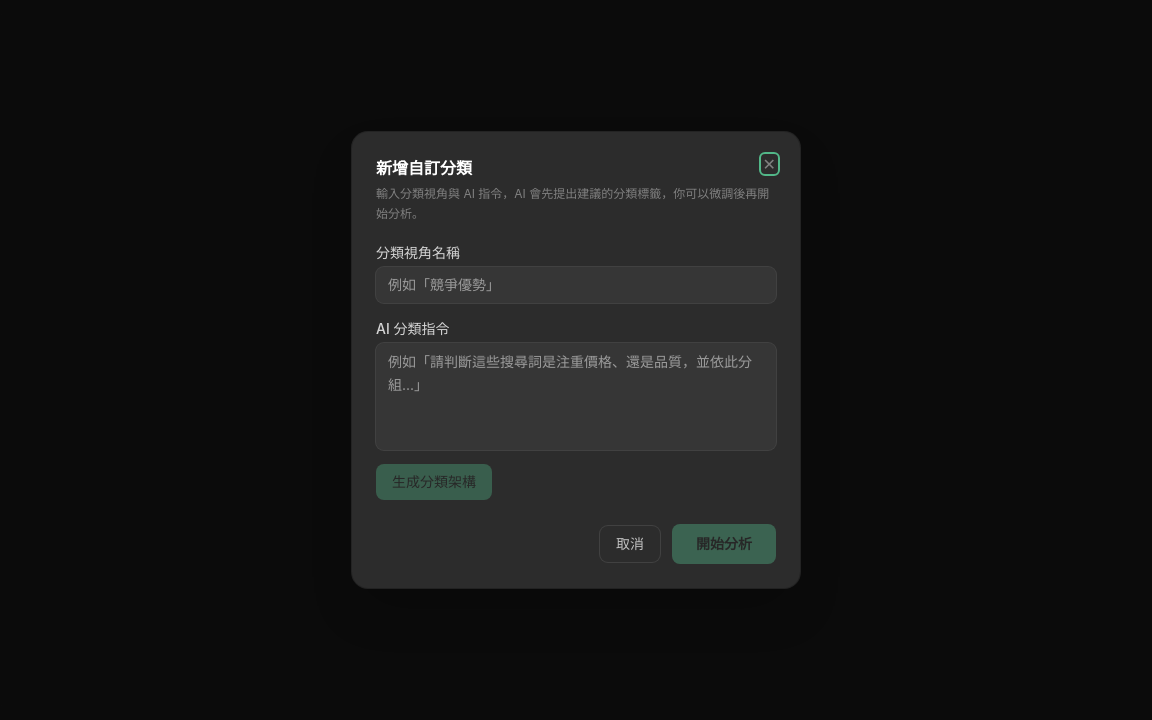
Test: TC-26 · CustomClassifyModal (stage one) › lets the user remove a chip
This screenshot has width=1152, height=720.
In the field labelled "分類視角名稱": (576, 285) [376,267,776,303], type "競爭優勢"
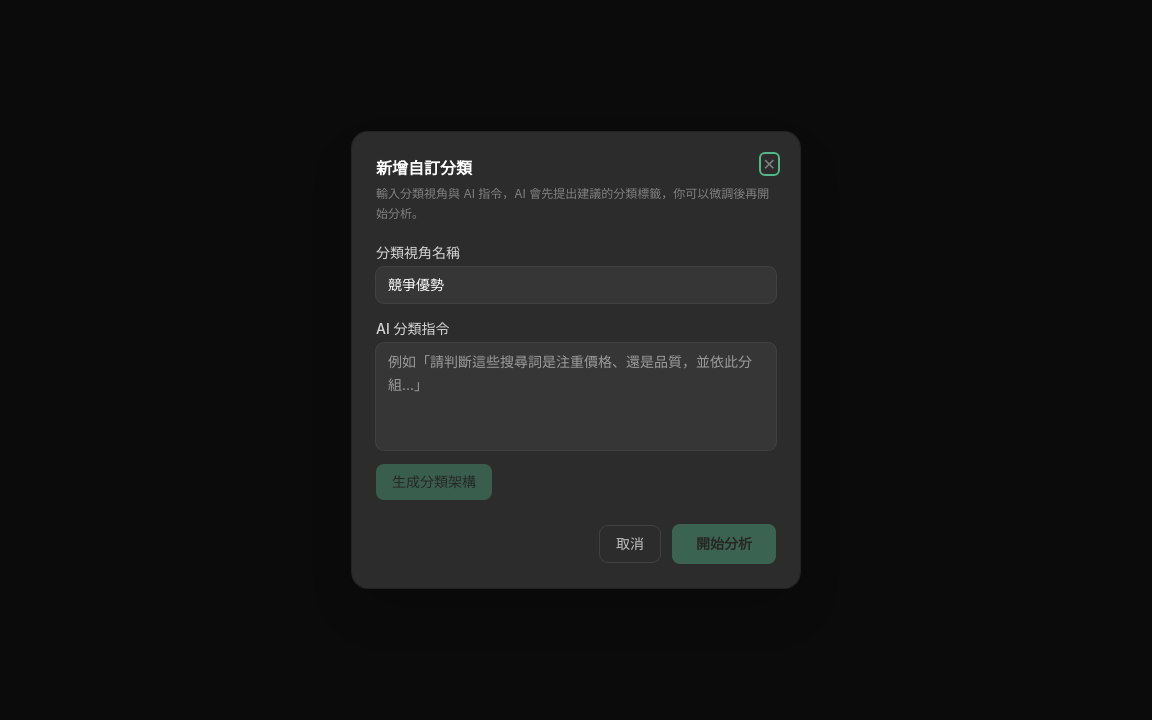
In the text box labelled "AI 分類指令": (576, 396) [376,343,776,450], type "請依價格 vs 品質分組"
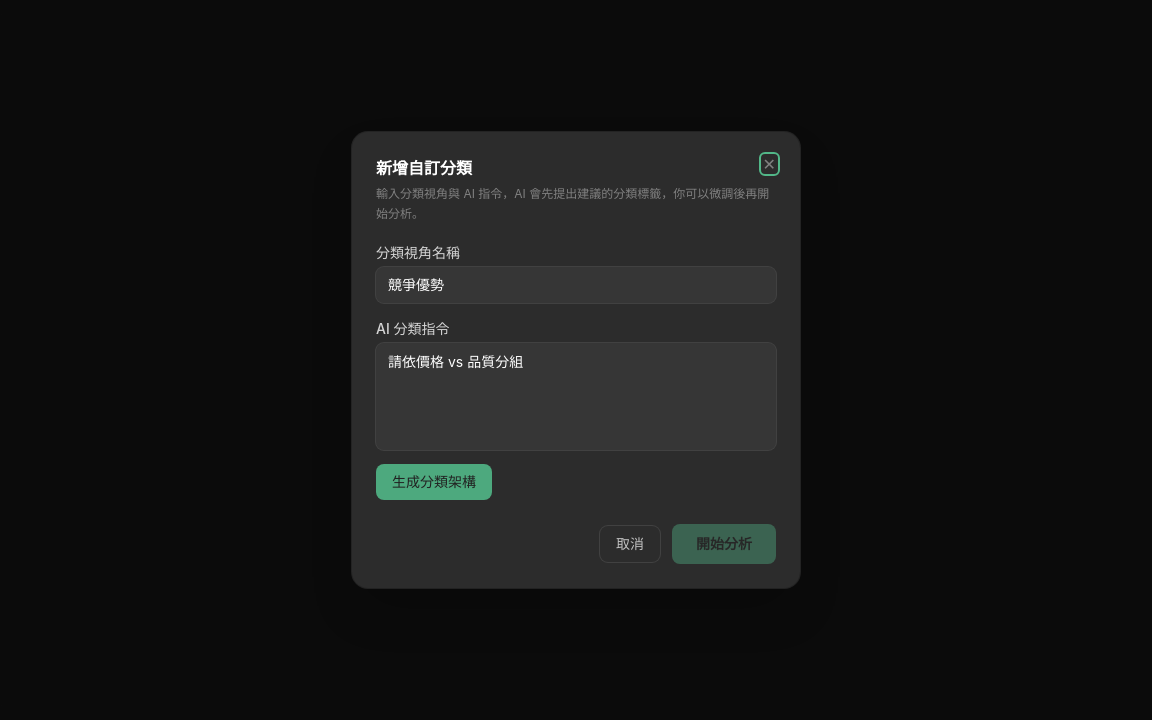
Click the button "生成分類架構": (434, 482) [376,464,492,500]
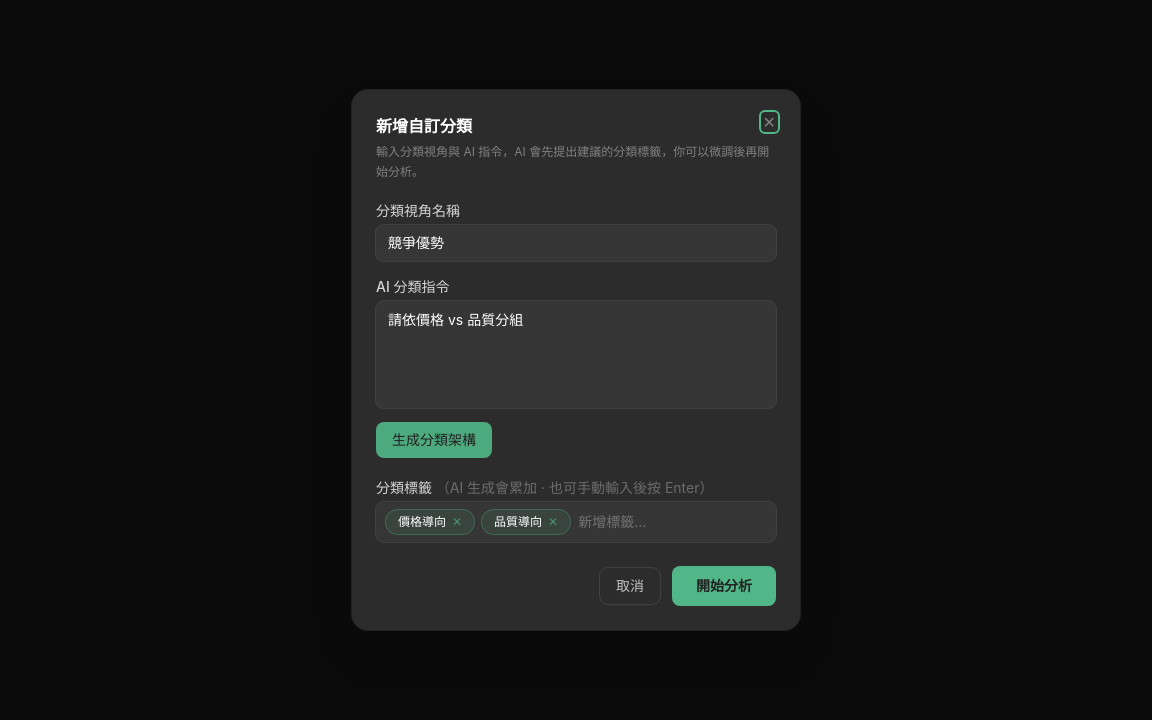
Expected: the text "價格導向" is shown, [398,514,446,529]
Click the button named "移除 價格導向": (457, 522) [452,516,462,528]
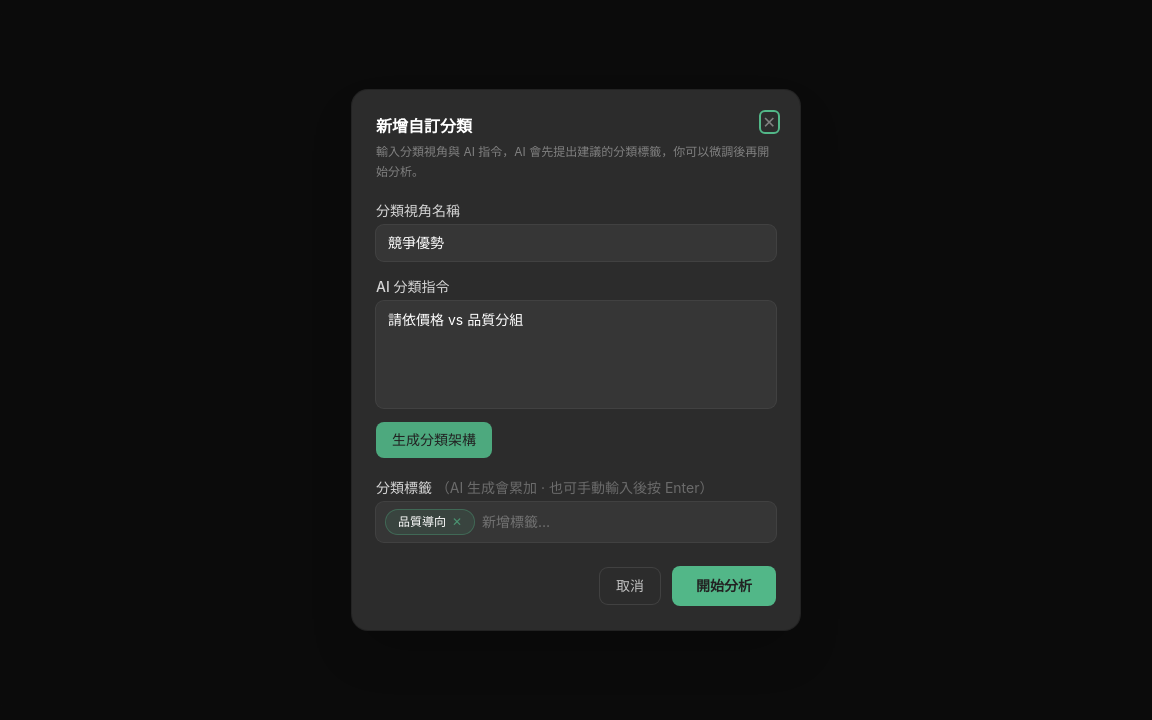
Expected: the text "品質導向" is shown, [398,514,446,529]
Expected: the text "價格導向" is gone
